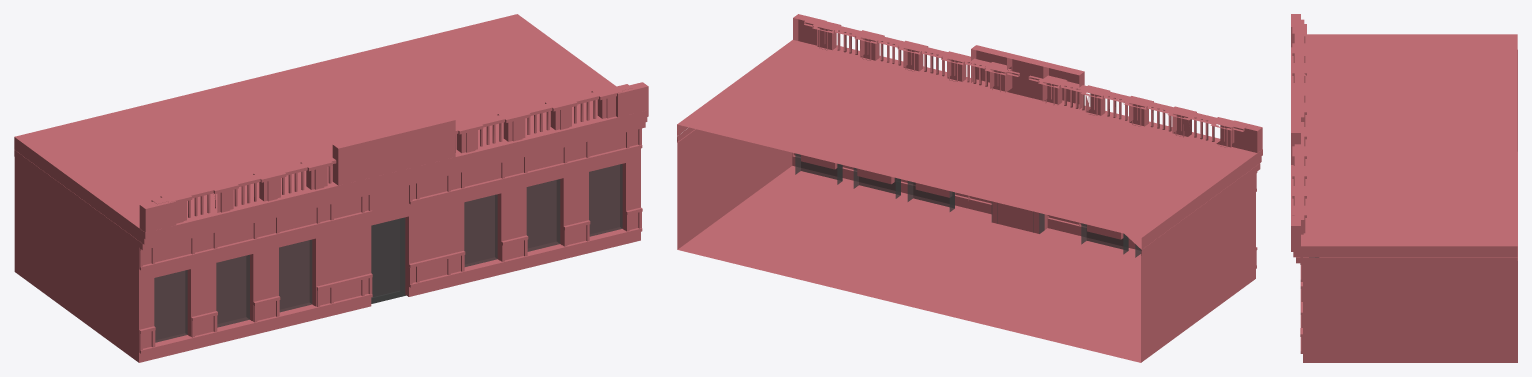
File: edificio 2.fbx
The picture shows the model from 3 angles, left to right: view 1: azimuth 30°, elevation 25°; view 2: azimuth 150°, elevation 25°; view 3: azimuth 270°, elevation 25°; orthographic projection. The views are drawn at different scales.
Parts seen in each view (by area): view 1: Base, Base2, Ventanas y Puertas2, Ventanas y Puertas; view 2: Base2, Base, Ventanas y Puertas2, Ventanas y Puertas; view 3: Base2, Base.
Part boxes in pixels (bbox=[...]): Base: bbox=[14, 90, 457, 362]; Base2: bbox=[205, 14, 648, 315]; Ventanas y Puertas2: bbox=[371, 164, 622, 303]; Ventanas y Puertas: bbox=[154, 218, 405, 342]; Base2: bbox=[677, 14, 1084, 319]; Base: bbox=[940, 45, 1262, 362]; Ventanas y Puertas2: bbox=[795, 153, 1033, 232]; Ventanas y Puertas: bbox=[997, 203, 1141, 257]; Base2: bbox=[1291, 83, 1517, 362]; Base: bbox=[1291, 14, 1517, 231].
Size of the model in its own units: 3115 by 1028 by 1409.
